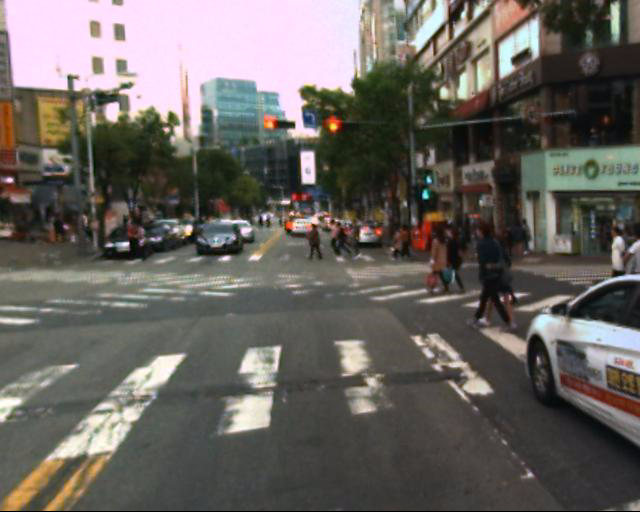person: (424, 216, 534, 277), (467, 216, 512, 333), (296, 207, 371, 273), (421, 221, 455, 302), (603, 230, 624, 280)
